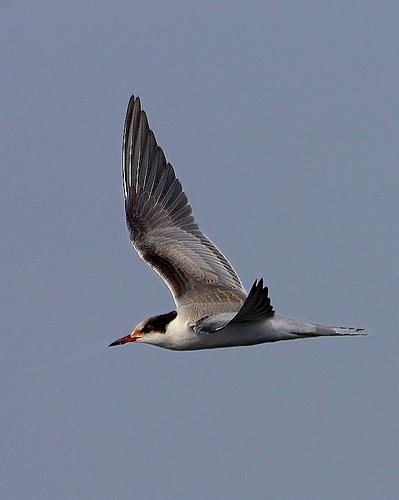bird: (103, 93, 368, 352)
